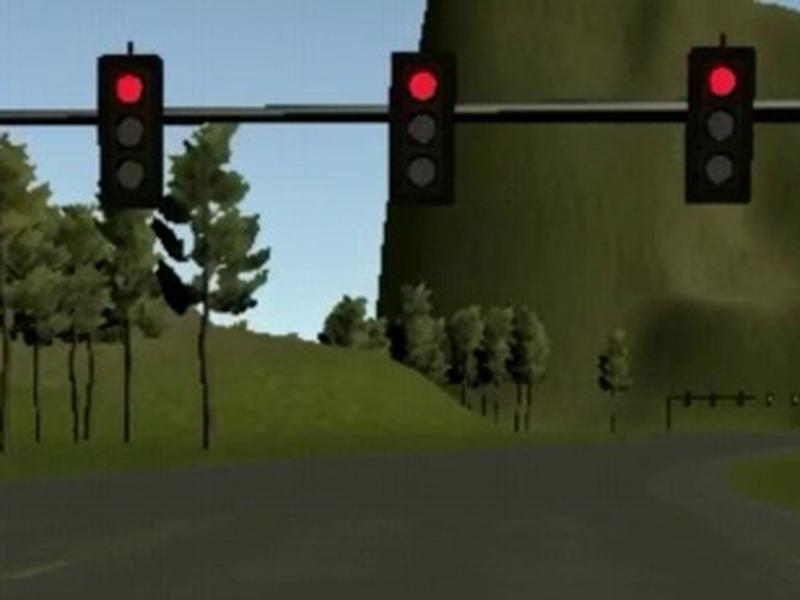Red: (686, 47, 758, 203), (98, 56, 163, 211), (391, 53, 455, 206)
